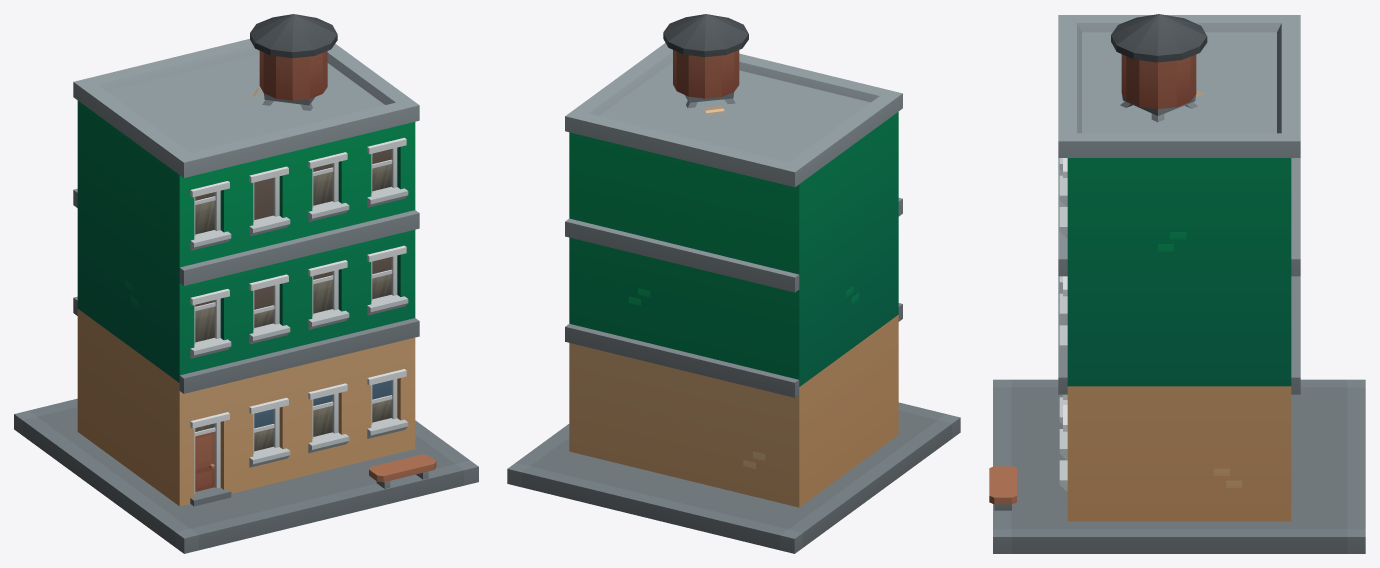
The model's file is building_D.obj.
The picture shows the model from 3 angles, left to right: view 1: azimuth 30°, elevation 25°; view 2: azimuth 150°, elevation 25°; view 3: azimuth 270°, elevation 25°; orthographic projection. The views are drawn at different scales.
Visible parts, largest first — view 1: building_D_Cube.935; view 2: building_D_Cube.935; view 3: building_D_Cube.935.
Part boxes in pixels (x1,y1,x2,y2): building_D_Cube.935: [14, 14, 478, 553]; building_D_Cube.935: [507, 14, 960, 553]; building_D_Cube.935: [989, 14, 1365, 553].
Size of the model in its own units: 2 by 2.85 by 2.02.
